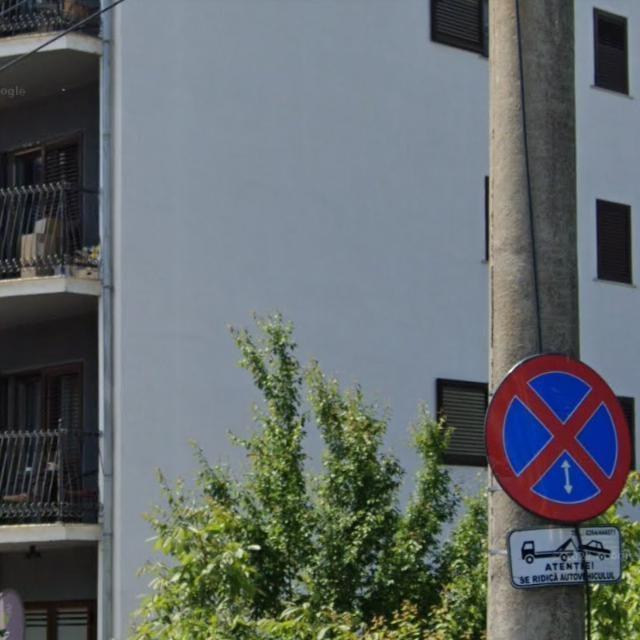forb_waiting: (482, 353, 630, 519)
